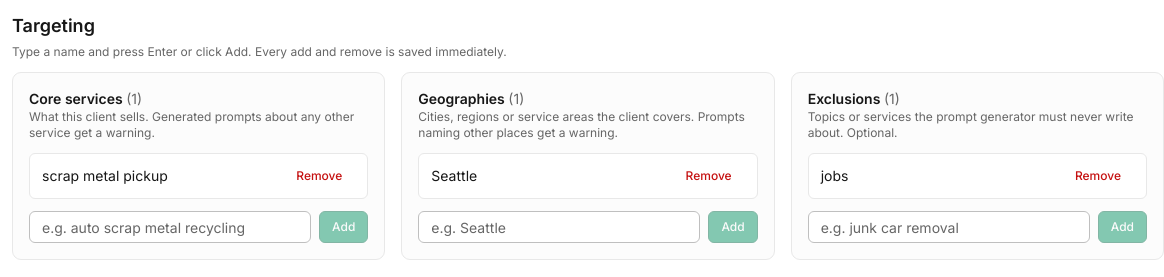
it: ClientTargetingSection › removes an item immediately and saves the shortened list
Step 1. Click the button with aria-label "Remove exclusion jobs" → click(1098, 176), box [1062,160,1134,192]
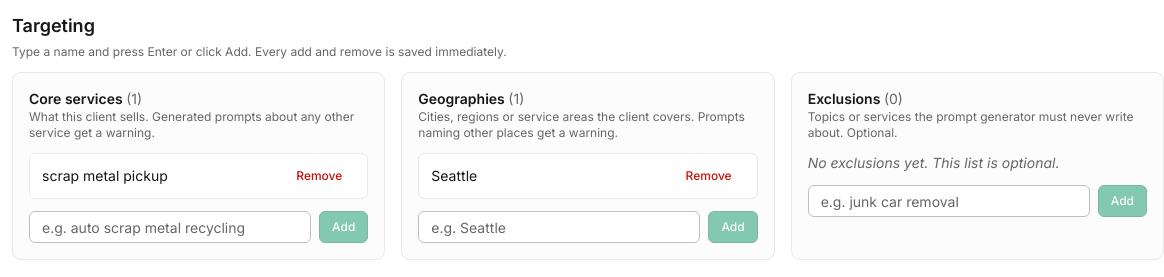
Expected: the text "jobs" is gone
